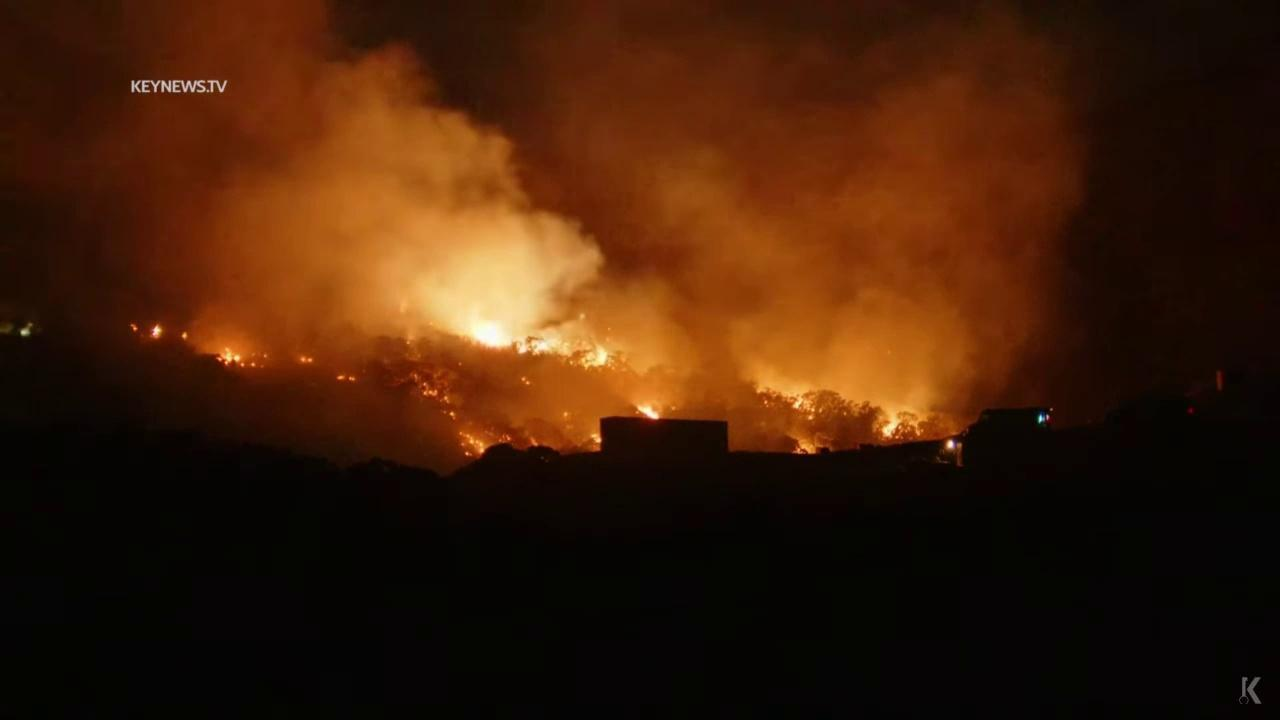fire: (466, 315, 609, 372), (410, 371, 458, 422), (454, 429, 488, 459), (783, 391, 817, 421), (876, 410, 905, 440), (211, 344, 245, 368), (628, 403, 661, 421), (149, 321, 165, 342), (333, 373, 357, 383), (590, 430, 605, 444), (181, 328, 191, 343), (298, 355, 314, 364), (127, 321, 140, 332)
smoke: (0, 0, 1116, 485)
